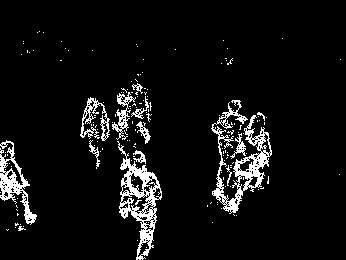person: (120, 152, 162, 260), (234, 113, 269, 211), (1, 139, 37, 228), (214, 100, 243, 198), (76, 97, 111, 170), (114, 90, 134, 170)
